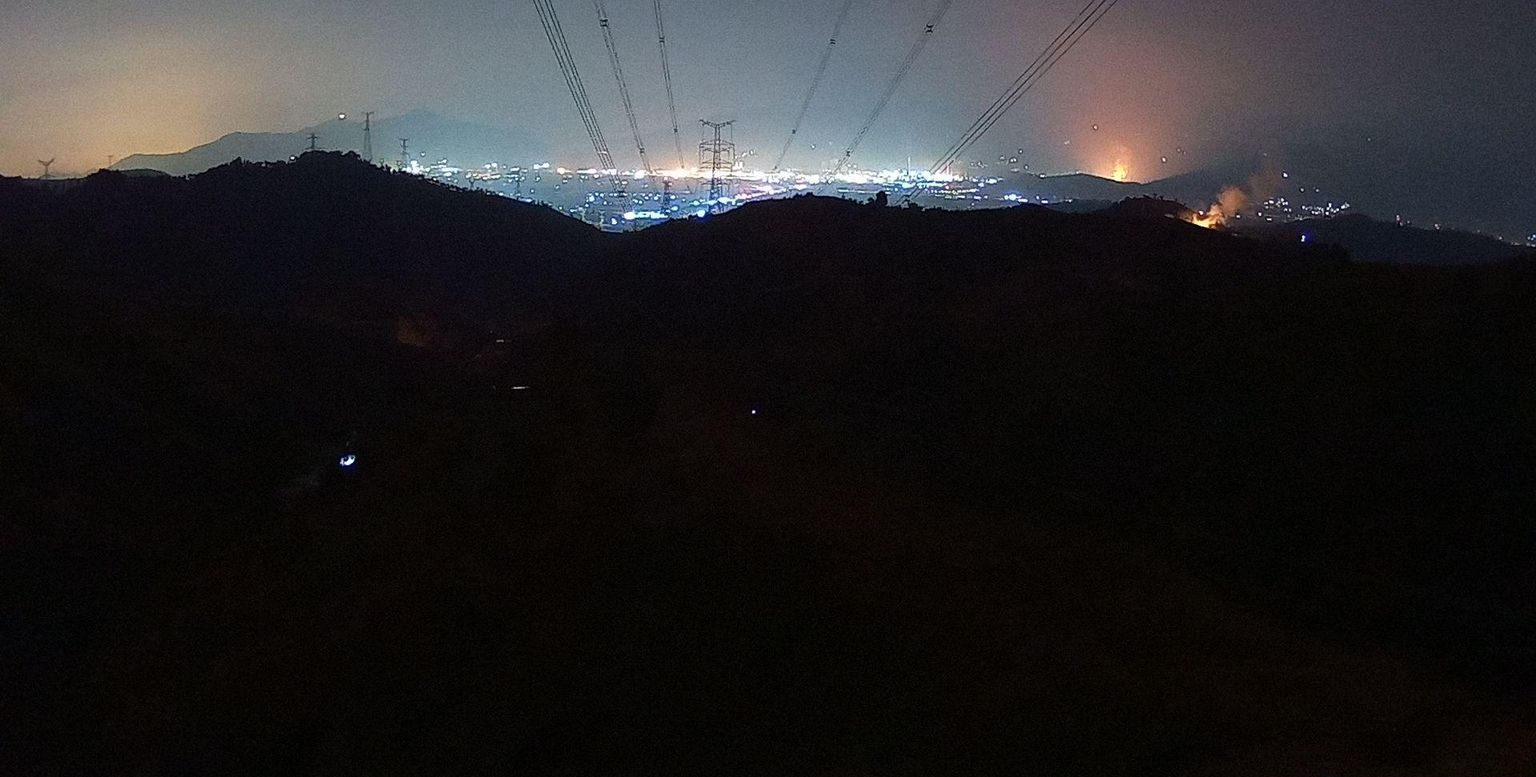山火: (1111, 164, 1129, 181), (1191, 216, 1215, 228)
烟雾: (1164, 150, 1277, 232), (1105, 142, 1137, 183)
